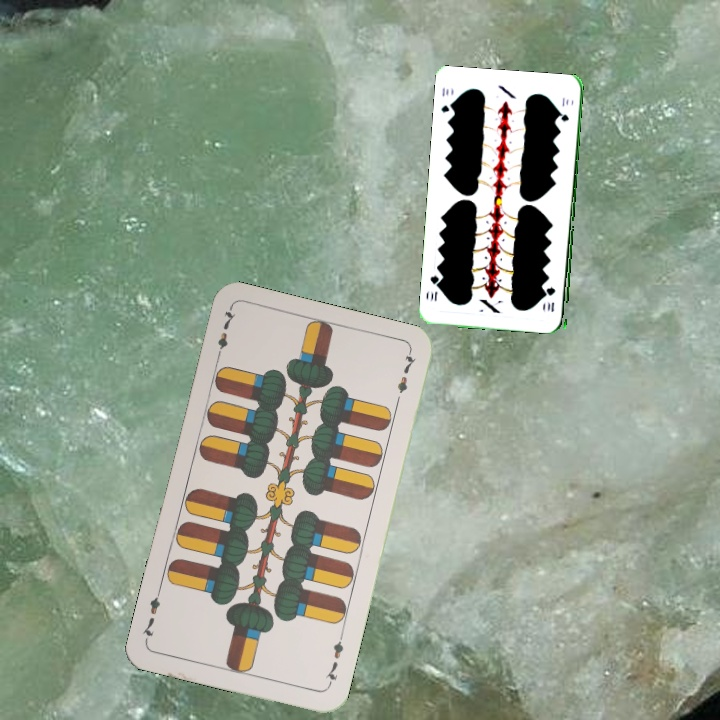E7: (212, 305, 239, 363), (322, 631, 346, 689)
G10: (437, 83, 456, 115), (543, 283, 558, 314)
